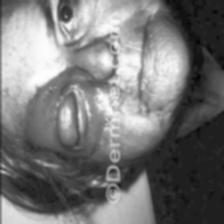Non-Cancerous Skin Condition: (18, 59, 89, 173)
